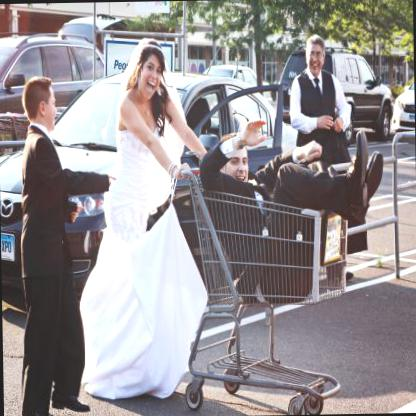car: (0, 28, 303, 312), (0, 29, 106, 155), (274, 44, 392, 148), (57, 11, 138, 53), (201, 63, 273, 110), (392, 82, 414, 141)
